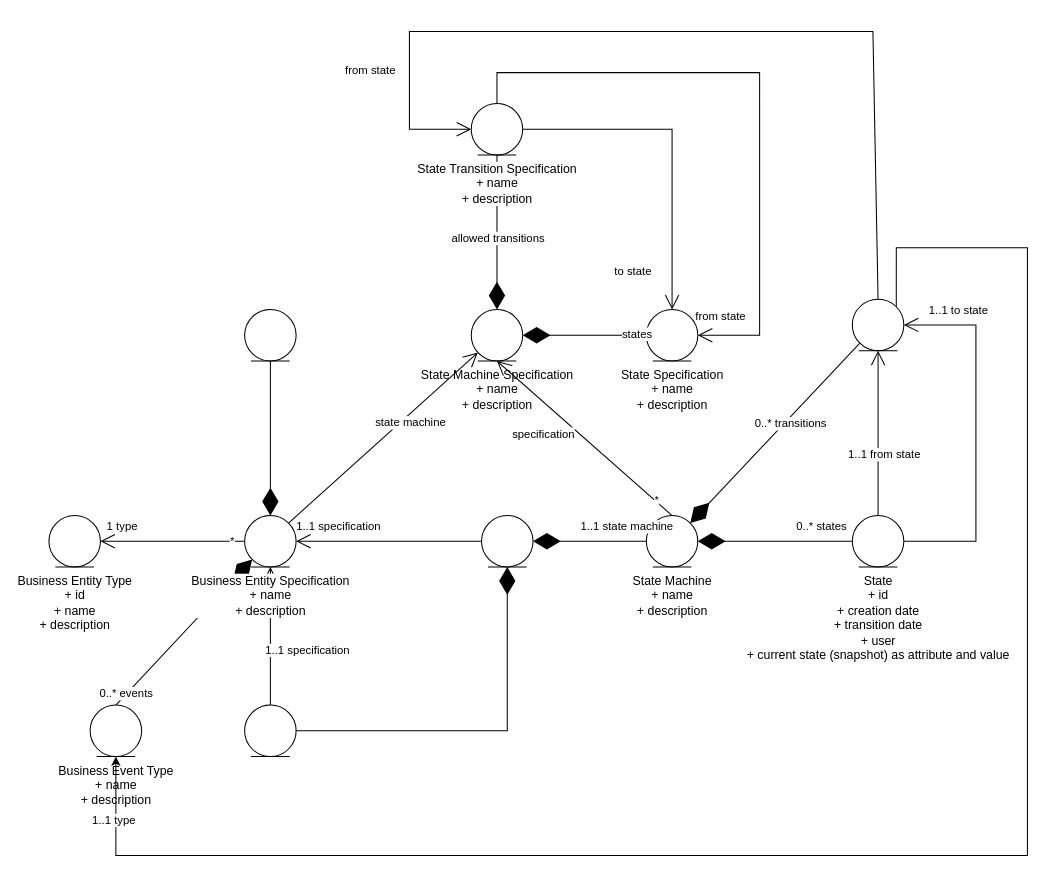
This 1054x882 diagram has some shape labels left out. Each missing label, with the centre of its shape:
"Business Entity" belongs at point 270,730.
"Business Entity + id (guid) + creation date + created by" belongs at point 506,540.
"Business Entity Property Specification + name + description + domain data type" belongs at point 270,334.
"State Transition + id + creation date + transition date" belongs at point 877,324.
